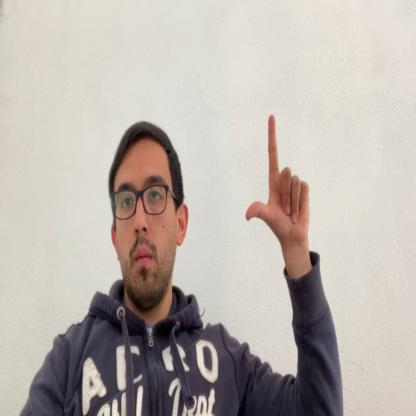L: (245, 112, 310, 250)
